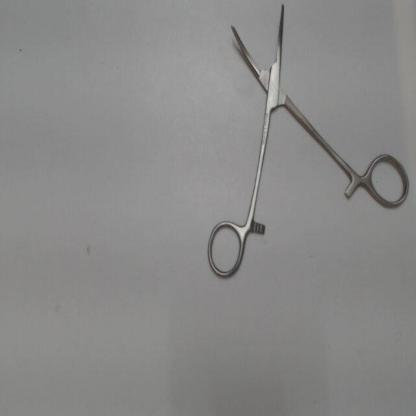Crile Artery Forceps: (201, 1, 414, 283)
